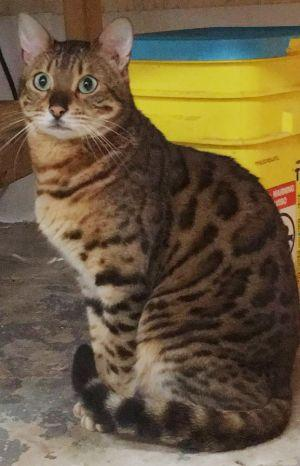bengal: (15, 8, 146, 151)
